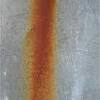rust: (26, 2, 58, 99)
